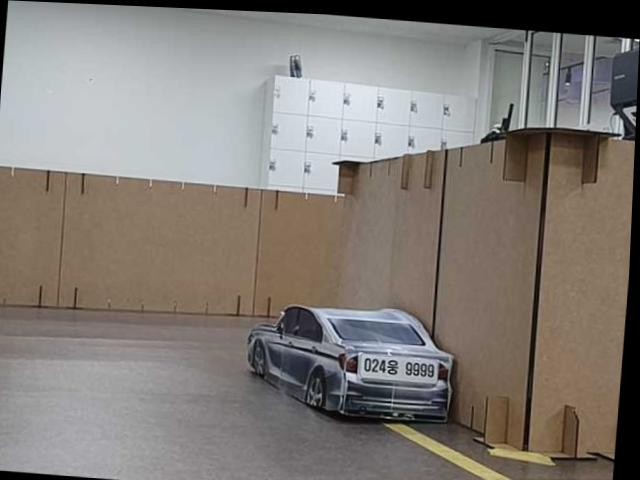car: (240, 293, 464, 431)
id: (356, 348, 440, 388)
